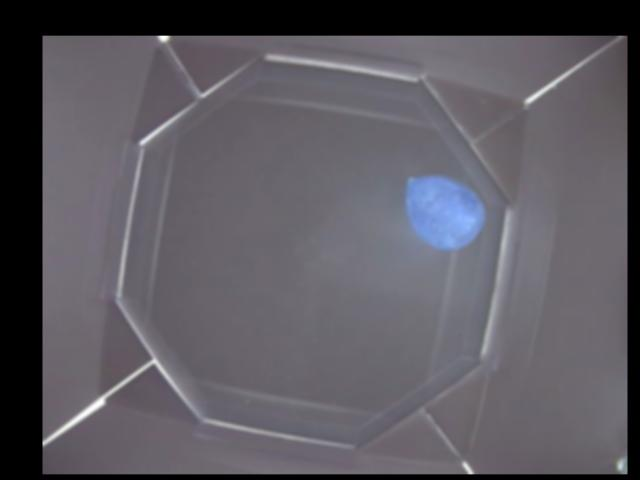Potato: (406, 174, 485, 251)
